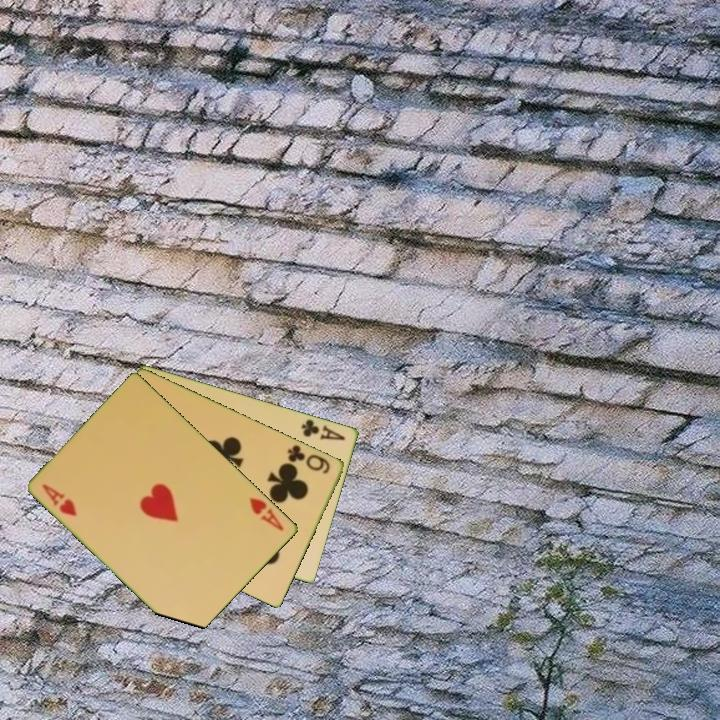6c: (284, 441, 334, 477)
Ac: (298, 415, 348, 443)
Ah: (246, 494, 287, 534), (39, 480, 80, 519)
